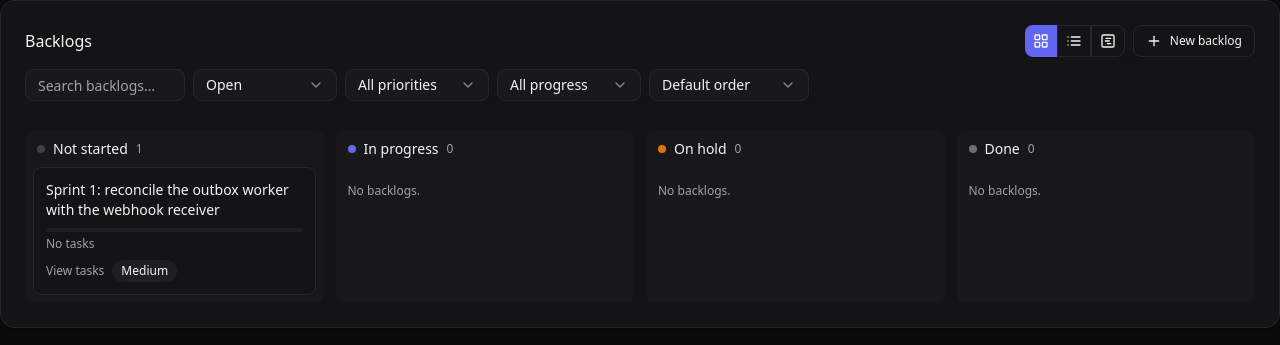
Test: BacklogListSection › offers a row's full name on hover once it has been truncated
Click the button named "List" at (1074, 41), box [1057, 25, 1091, 57]
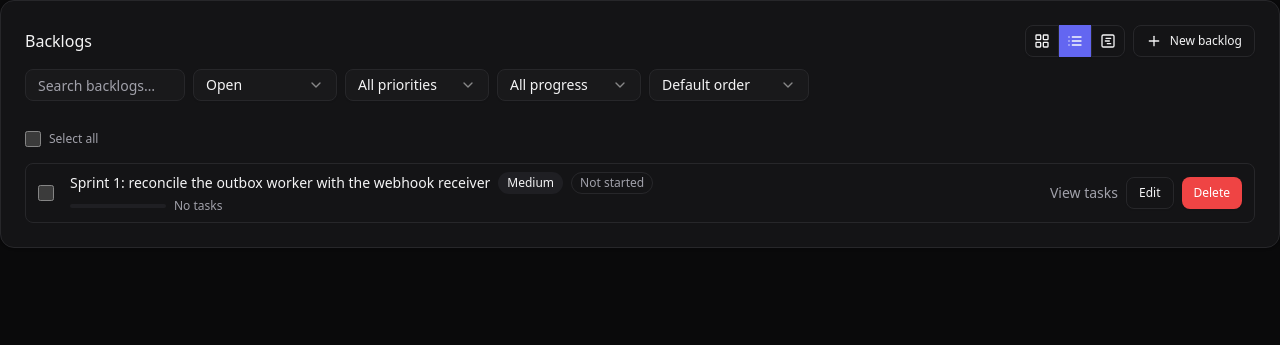
Hover over the link "Sprint 1: reconcile the outbox worker with the webhook receiver" at (280, 183), box [70, 173, 490, 193]
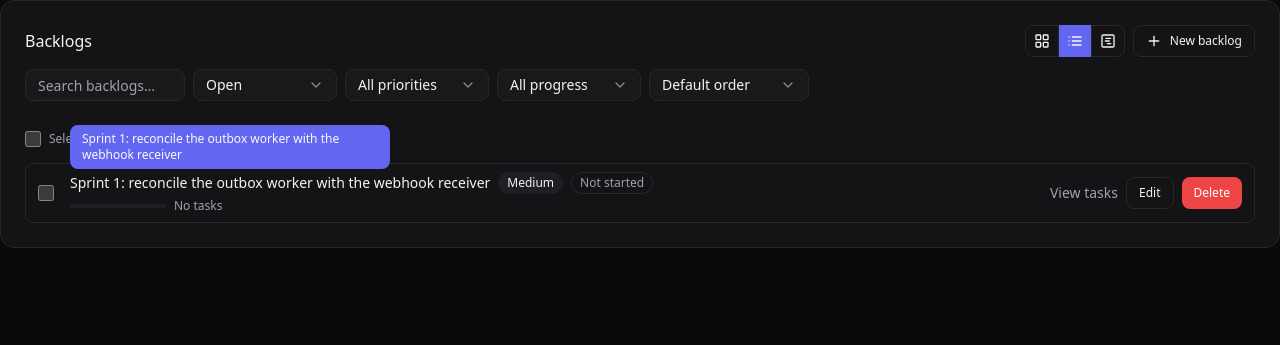
Check: the tooltip reads "Sprint 1: reconcile the outbox worker with the webhook receiver", box [82, 130, 339, 163]
